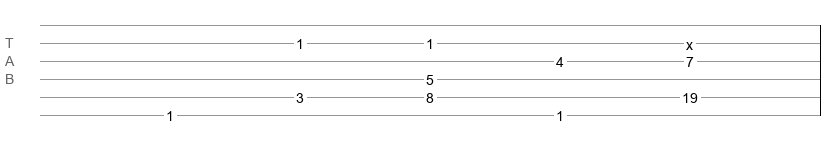1: (166, 108, 174, 118), (296, 36, 304, 46), (426, 36, 434, 46), (556, 108, 564, 118)
19: (682, 90, 698, 100)
3: (296, 90, 304, 100)
4: (556, 54, 564, 64)
5: (426, 72, 434, 82)
7: (686, 54, 694, 64)
8: (426, 90, 434, 100)
x: (686, 37, 693, 45)
